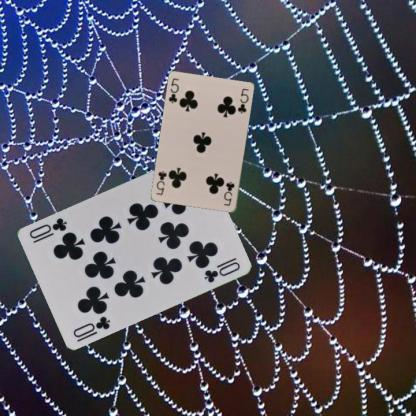10c: (70, 313, 112, 339)
5c: (221, 179, 236, 207), (166, 76, 180, 104)
